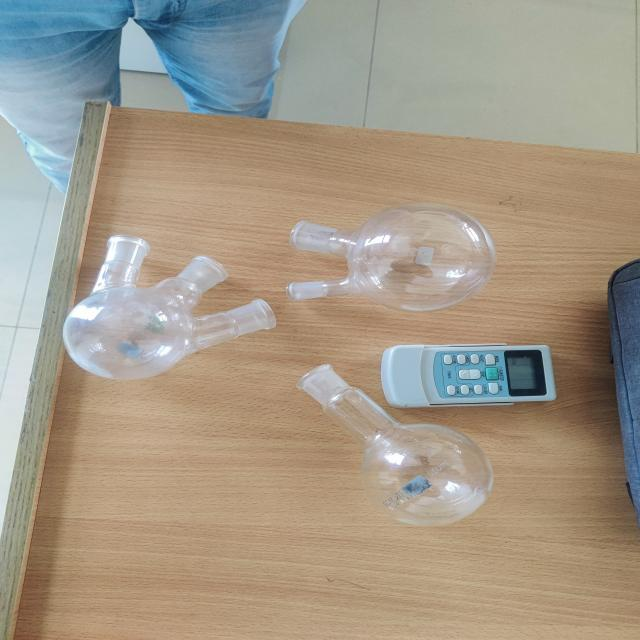Round_Bottom_Flask_Borosilicate_Glass_1_Neck: (267, 330, 519, 547)
Round_Bottom_Flask_Borosilicate_Glass_2_Neck: (238, 162, 546, 327)
Round_Bottom_Flask_Borosilicate_Glass_3_Neck: (43, 210, 285, 378)
